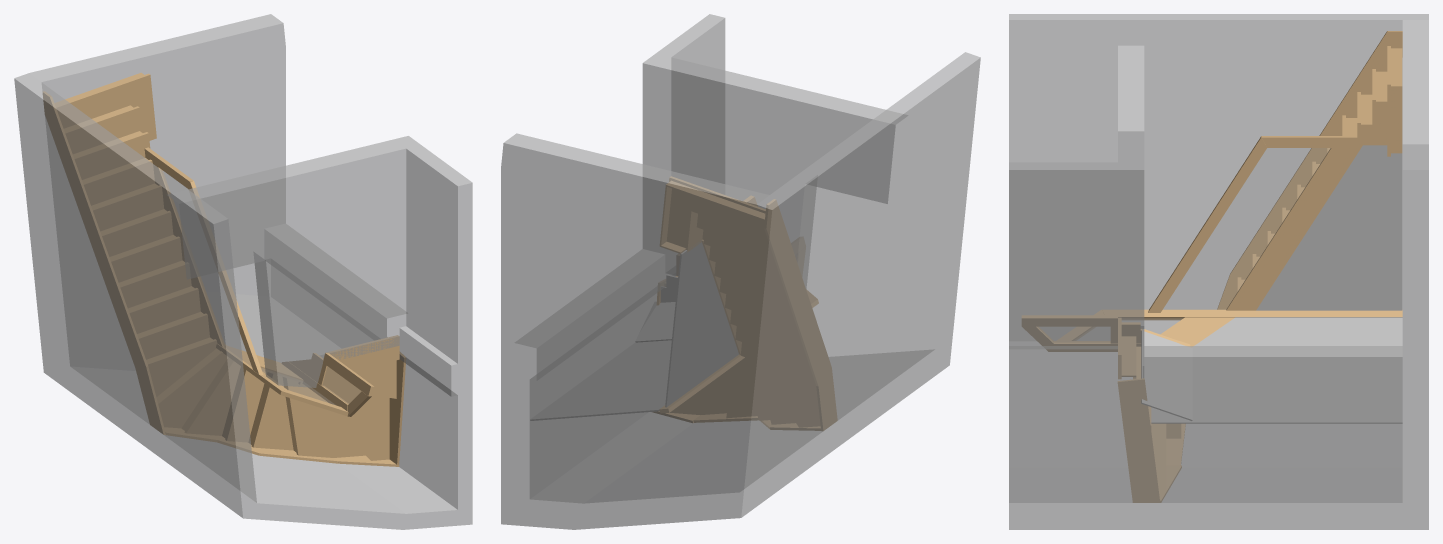
The picture shows the model from 3 angles, left to right: view 1: azimuth 30°, elevation 25°; view 2: azimuth 150°, elevation 25°; view 3: azimuth 270°, elevation 25°; orthographic projection. The views are drawn at different scales.
Parts seen in each view (by area): view 1: Model; view 2: Model; view 3: Model.
Part boxes in pixels (x1,y1,x2,y2): Model: (14,14,472,529); Model: (501,14,980,529); Model: (1009,14,1428,529).
Bounding box in the file's own units: 3.47 × 4.68 × 4.63.
